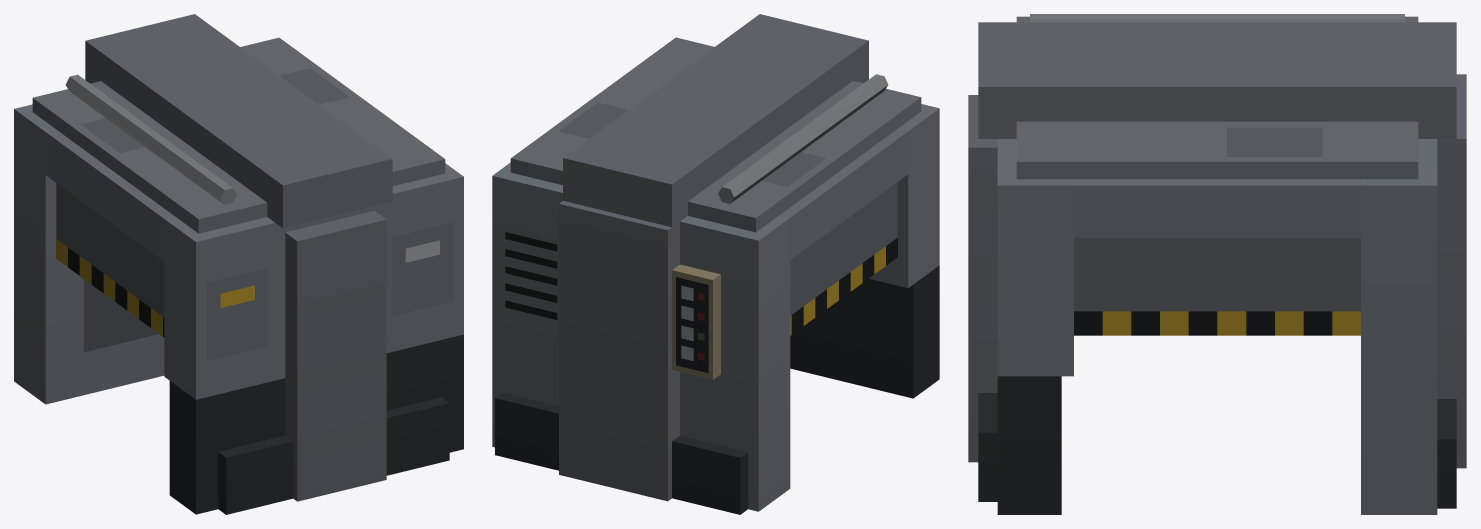
The model's file is machine.heavy.grey.glb.
3 views of the same model, side by side, from view 1: azimuth 30°, elevation 25°; view 2: azimuth 150°, elevation 25°; view 3: azimuth 270°, elevation 25° (orthographic). The views are drawn at different scales.
Parts seen in each view (by area): view 1: machine_heavy_grey; view 2: machine_heavy_grey; view 3: machine_heavy_grey.
Part boxes in pixels (x1,y1,x2,y2): machine_heavy_grey: [14, 14, 463, 514]; machine_heavy_grey: [492, 14, 939, 514]; machine_heavy_grey: [968, 14, 1466, 514].
Size of what is drawn, in the model's own units: 1.96 by 2.2 by 2.61.
